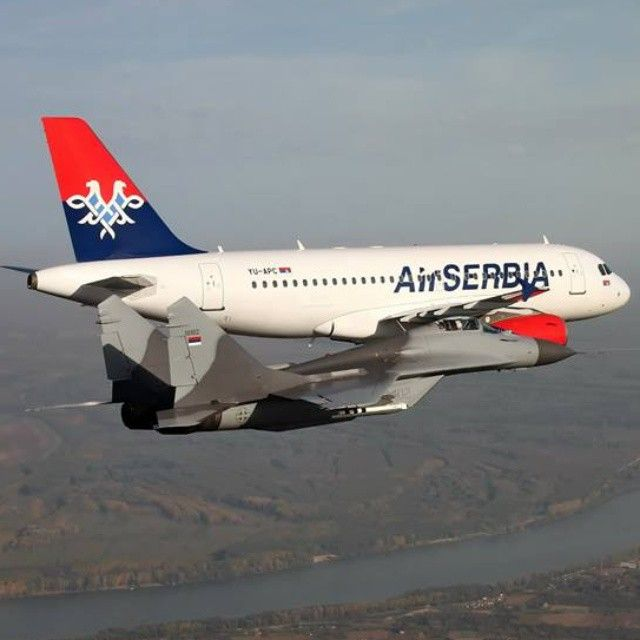Mig-29: (78, 283, 579, 438)
